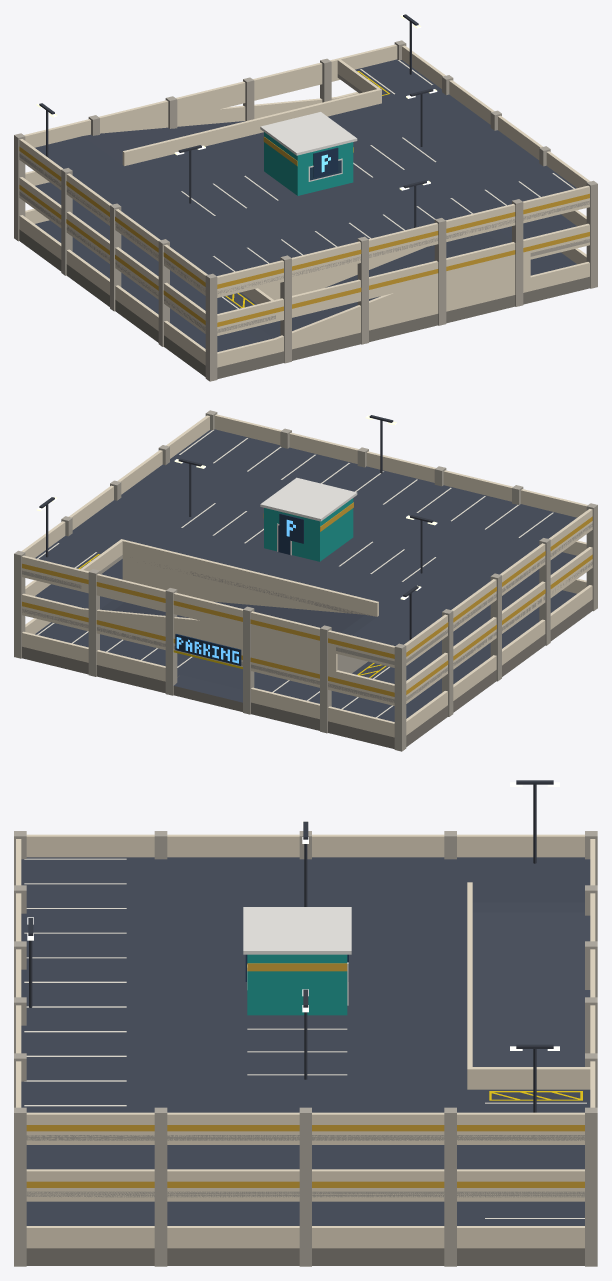
Rendered from parking_a.glb.
The picture shows the model from 3 angles, top to bottom: view 1: azimuth 30°, elevation 25°; view 2: azimuth 150°, elevation 25°; view 3: azimuth 270°, elevation 25°; orthographic projection. The views are drawn at different scales.
Parts seen in each view (by area): view 1: Building, Building_Detail; view 2: Building, Building_Detail, Building_Neon; view 3: Building, Building_Detail.
Boxes of the visible parts, left/top/right/bottom form: Building: left=14, top=40, right=597, bottom=381; Building_Detail: left=36, top=14, right=574, bottom=308; Building: left=14, top=410, right=597, bottom=751; Building_Detail: left=36, top=415, right=553, bottom=717; Building_Neon: left=176, top=519, right=295, bottom=663; Building: left=14, top=831, right=597, bottom=1266; Building_Detail: left=24, top=780, right=586, bottom=1218.
Bounding box in the file's own units: 32 × 11.24 × 28.02.
